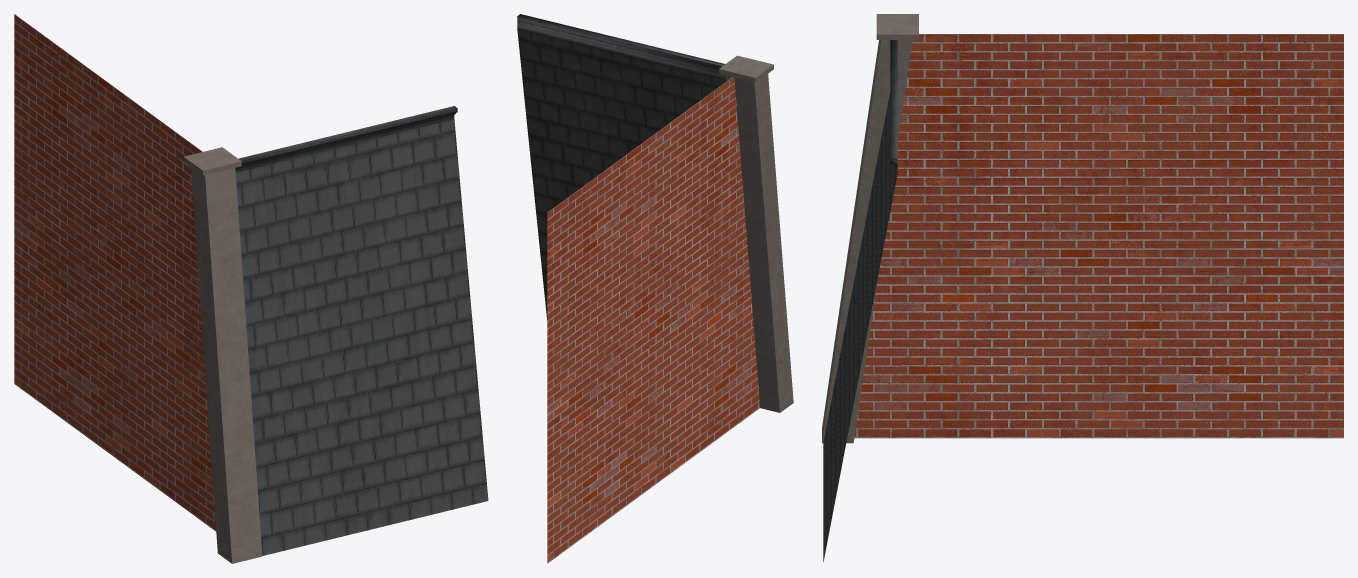
File: House_02_Roof_02.fbx
3 renders of one model, left to right at view 1: azimuth 30°, elevation 25°; view 2: azimuth 150°, elevation 25°; view 3: azimuth 270°, elevation 25°, orthographic. The views are drawn at different scales.
Parts seen in each view (by area): view 1: House_02_Roof_02; view 2: House_02_Roof_02; view 3: House_02_Roof_02.
Boxes of the visible parts, x1,y1,x2,y2 form: House_02_Roof_02: [14, 14, 488, 563]; House_02_Roof_02: [517, 14, 793, 563]; House_02_Roof_02: [822, 14, 1343, 562].
Bounding box in the file's own units: 221 × 305 × 351.
